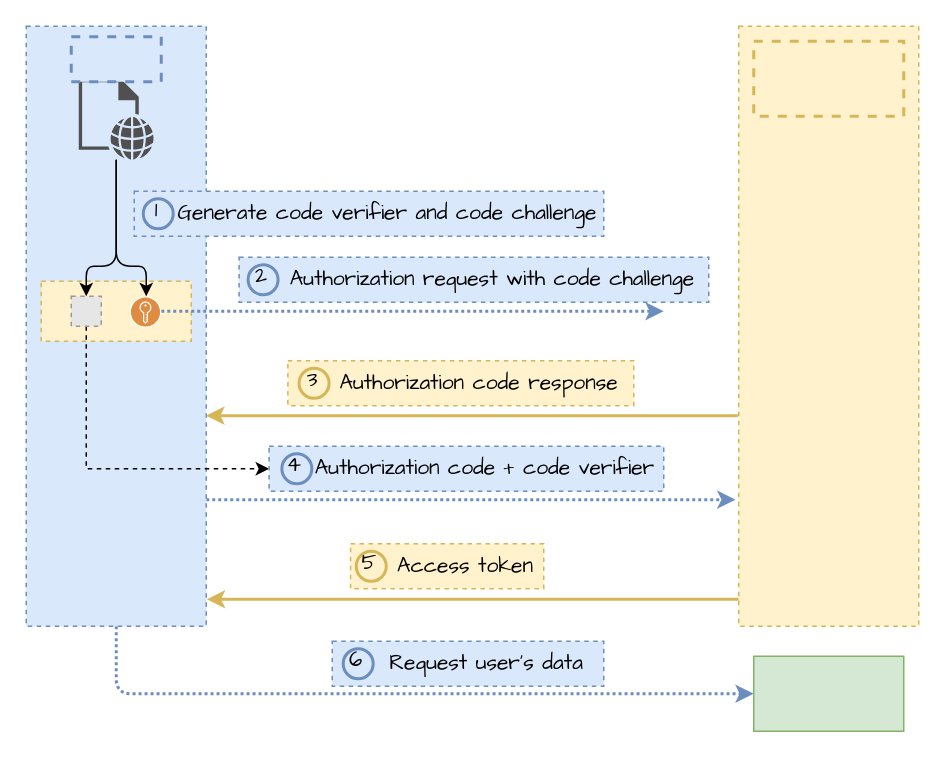
This 945x758 diagram has some shape labels left out. Grey dashed boxes stand in for pictures. The shapes that lost their labels are listed below. From the top down, each one's centre as x and y in pixels, then its label:
At point (115, 58): "SPA".
At point (828, 78): "Authorization server".
At point (828, 693): "API server".
